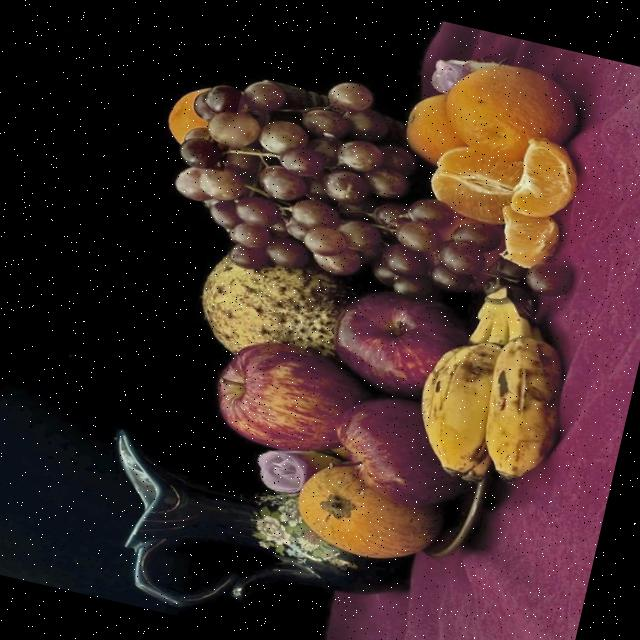apple: (217, 340, 381, 451), (336, 289, 475, 398), (342, 397, 469, 504)
banana: (486, 312, 566, 479), (423, 342, 503, 477)
grape: (177, 78, 508, 303)
